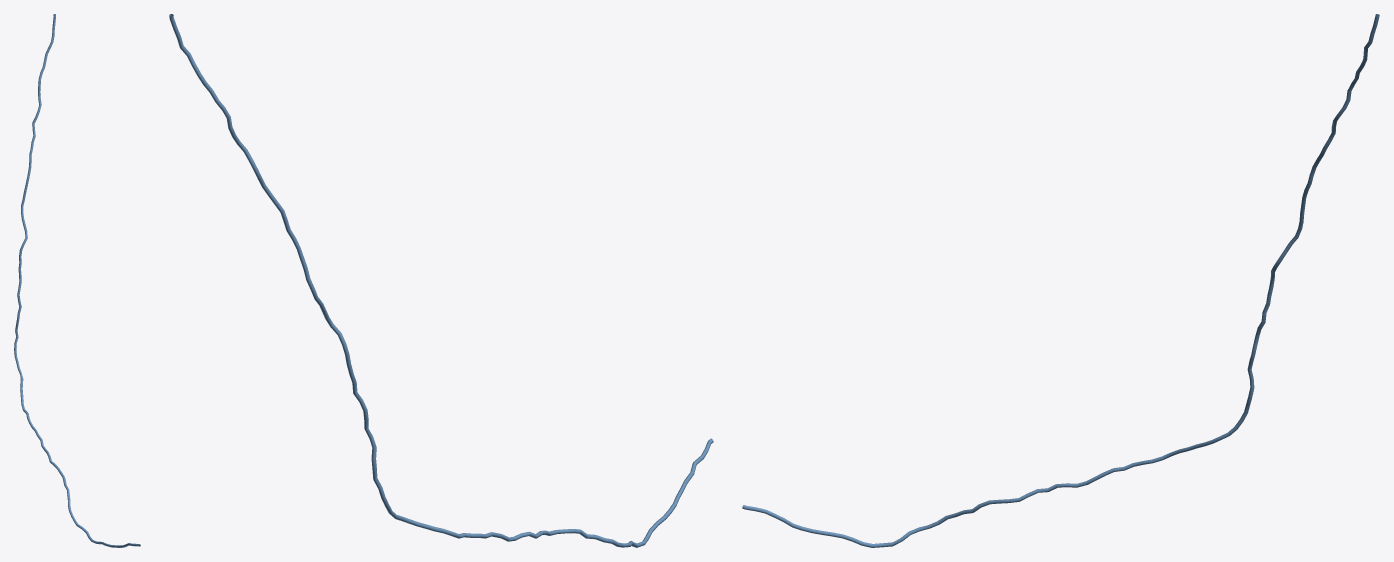
Rendered from sweep196.fbx.
3 renders of one model, left to right at view 1: azimuth 30°, elevation 25°; view 2: azimuth 150°, elevation 25°; view 3: azimuth 270°, elevation 25°, orthographic. The views are drawn at different scales.
Parts seen in each view (by area): view 1: sweep196; view 2: sweep196; view 3: sweep196.
Boxes of the visible parts, <box> form: sweep196: <box>14,14,140,547</box>; sweep196: <box>169,14,713,547</box>; sweep196: <box>742,14,1379,547</box>.
Bounding box in the file's own units: 1.09 × 3.31 × 3.07.
